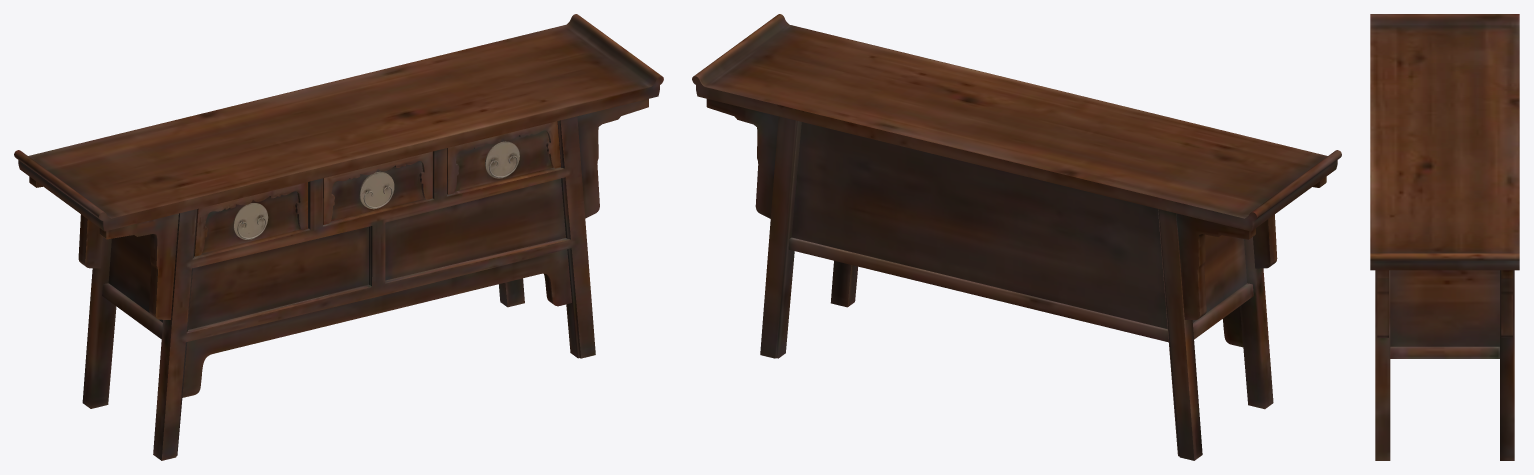
Rendered from chinese_commode.glb.
The picture shows the model from 3 angles, left to right: view 1: azimuth 30°, elevation 25°; view 2: azimuth 150°, elevation 25°; view 3: azimuth 270°, elevation 25°; orthographic projection. The views are drawn at different scales.
Visible parts, largest first — view 1: chinese_commode; view 2: chinese_commode; view 3: chinese_commode.
Part boxes in pixels (x1,y1,x2,y2): chinese_commode: [14, 14, 663, 460]; chinese_commode: [692, 14, 1341, 460]; chinese_commode: [1370, 14, 1519, 460].
Size of the model in its own units: 4.49 by 2.02 by 1.17.
1 material, 1 textured.
